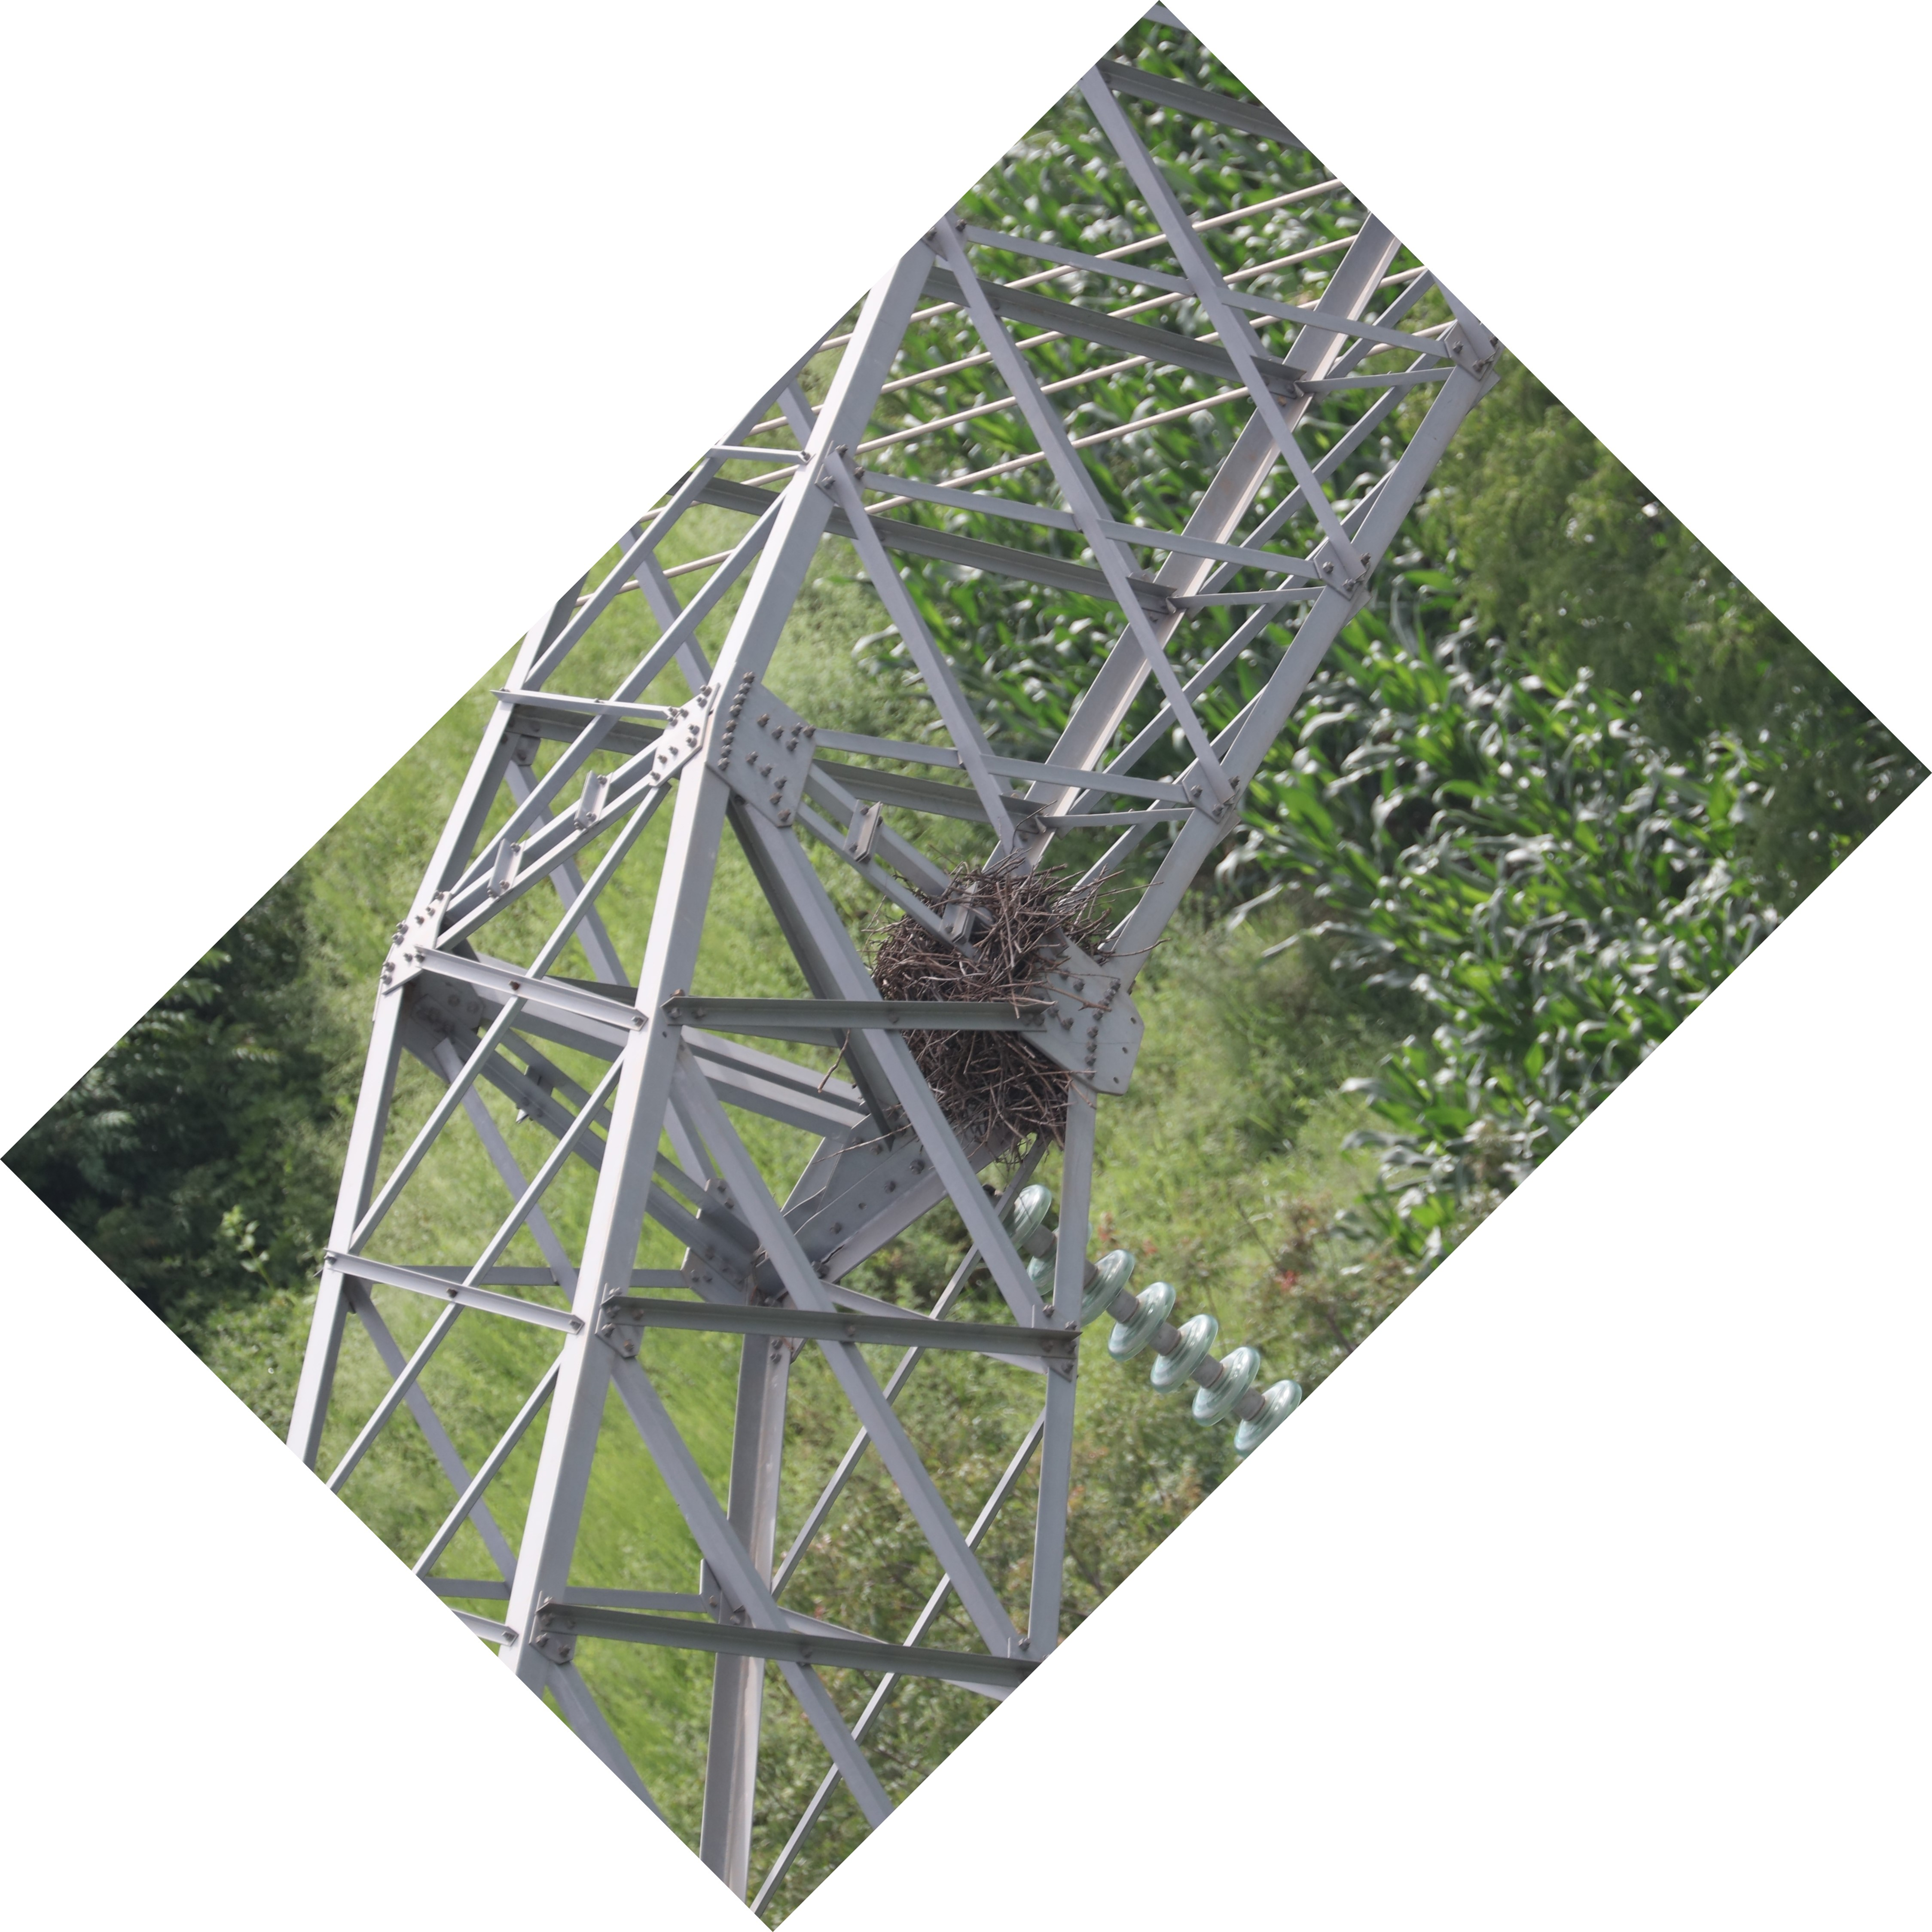niaowo: (839, 856, 1152, 1166)
